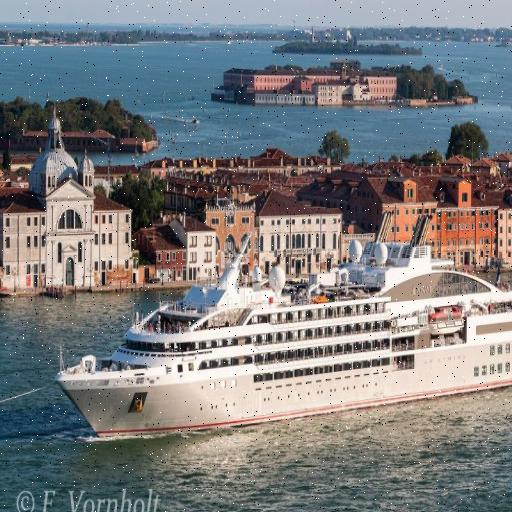cruises: (52, 207, 512, 450)
